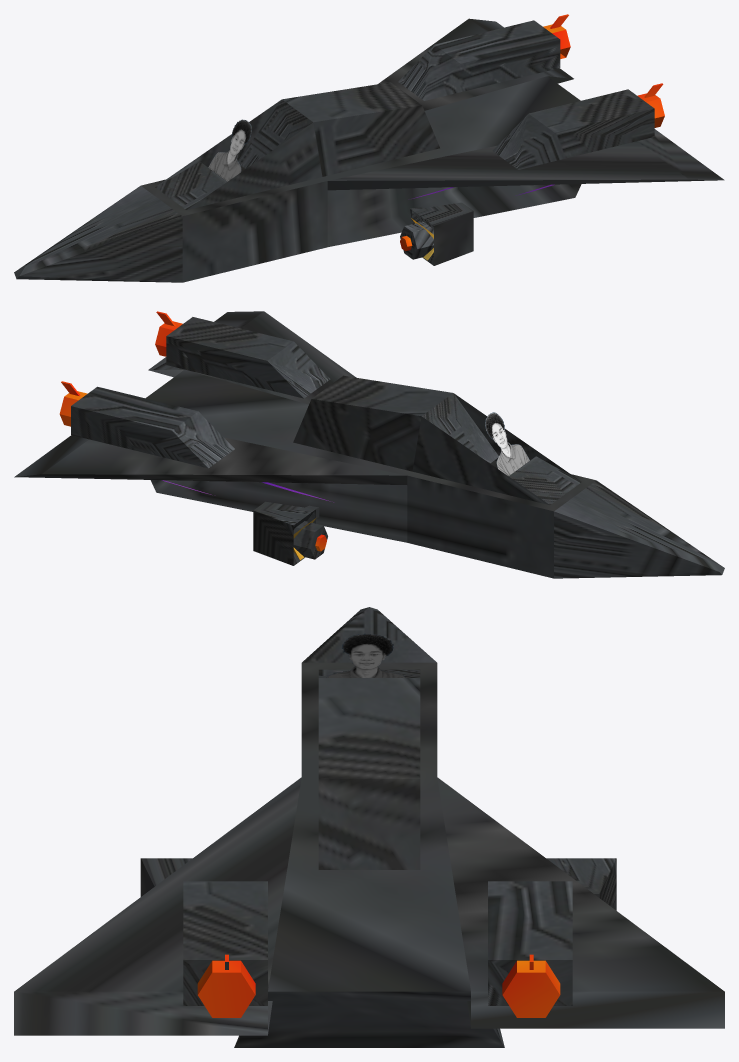
Rendered from spaceship.glb.
The picture shows the model from 3 angles, top to bottom: view 1: azimuth 30°, elevation 25°; view 2: azimuth 150°, elevation 25°; view 3: azimuth 270°, elevation 25°; orthographic projection. The views are drawn at different scales.
Visible parts, largest first — view 1: Cube; view 2: Cube; view 3: Cube.
Boxes of the visible parts, <box> form: Cube: <box>14,14,724,282</box>; Cube: <box>14,311,724,578</box>; Cube: <box>14,607,724,1047</box>.
Bounding box in the file's own units: 16.6 × 3.35 × 10.5.
2 materials, 2 textured.
